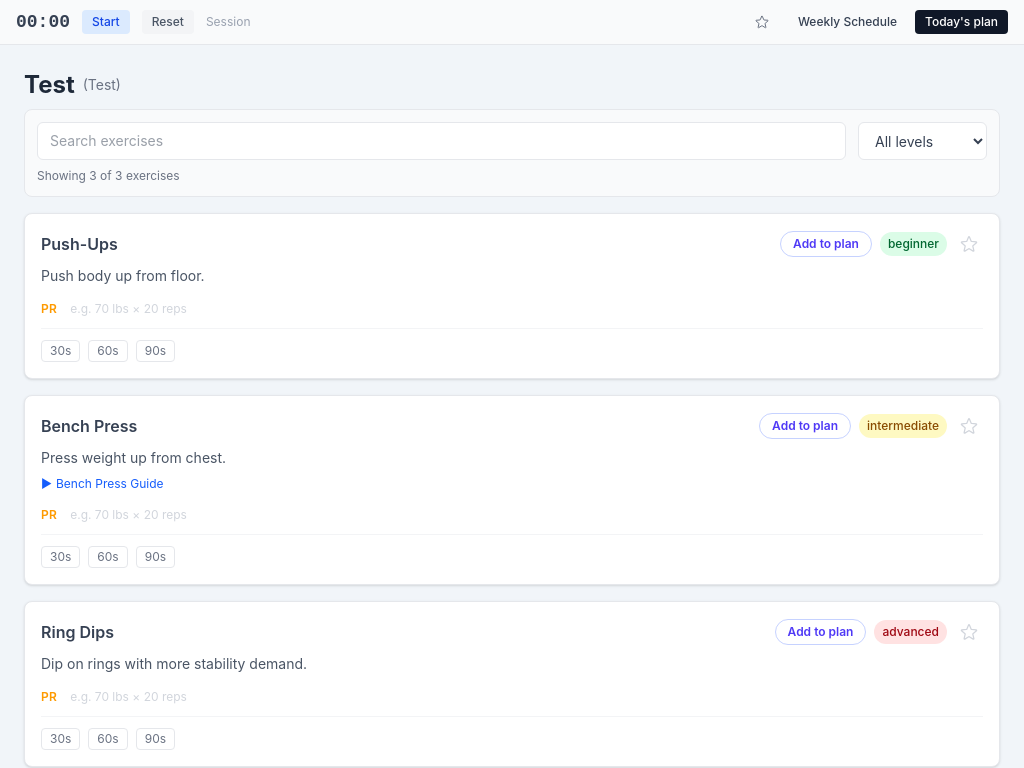
Test: ExercisePanel › shows favourited exercises first within the selected muscle
Click the button named "Add Ring Dips to favourites" at (969, 632), box x1=955 y1=618 x2=983 y2=646
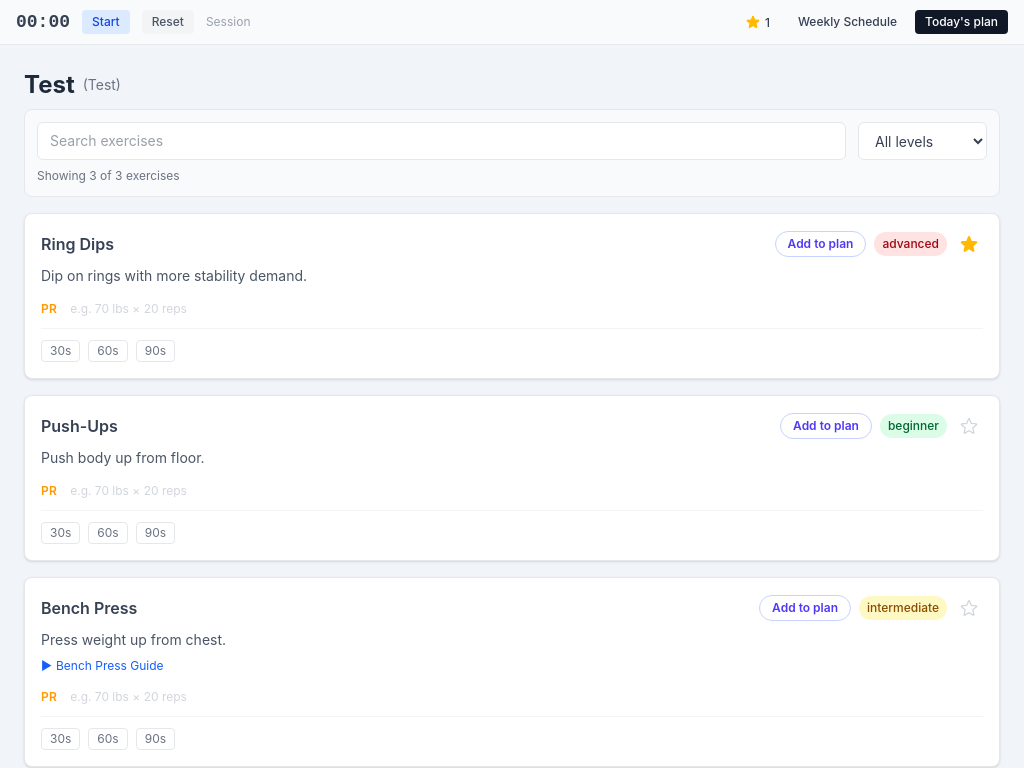
Result: the headings read "Ring Dips", "Push-Ups", "Bench Press", in this order at x1=41 y1=232 x2=114 y2=256; x1=41 y1=414 x2=118 y2=438; x1=41 y1=596 x2=137 y2=620
